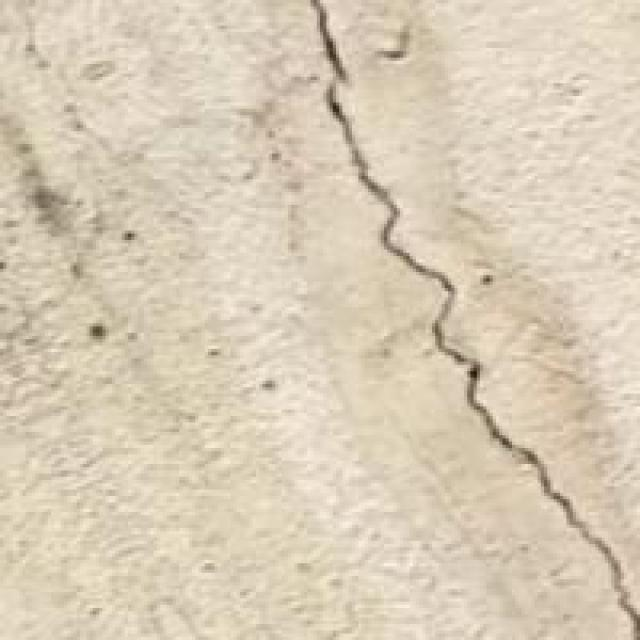Crack: (307, 0, 637, 637)
